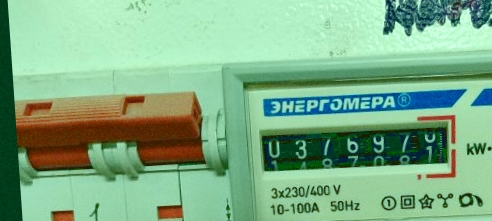0: (264, 135, 280, 158)
1: (422, 143, 435, 163)
3: (293, 137, 308, 159)
6: (343, 130, 360, 154)
7: (317, 132, 334, 157), (395, 129, 412, 153)
9: (369, 130, 385, 153)
screen: (249, 103, 463, 193)
